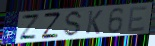6: (106, 6, 126, 35)
E: (126, 5, 149, 33)
K: (85, 9, 104, 35)
S: (62, 10, 84, 38)
Z: (18, 14, 41, 41), (41, 11, 62, 40)
